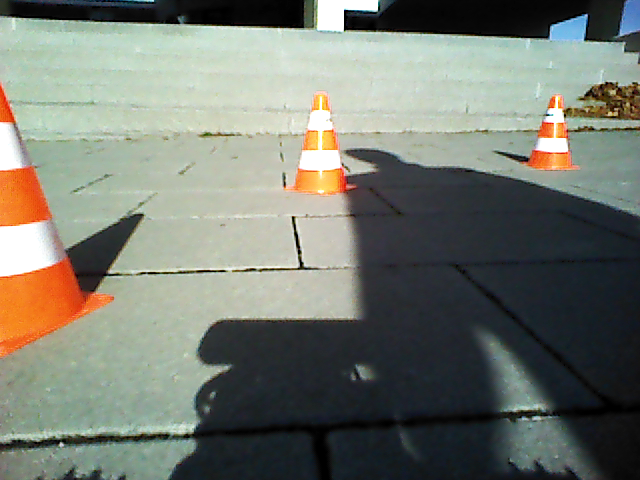orangeconesmall: (1, 79, 105, 357), (293, 93, 352, 197), (528, 96, 574, 172)
